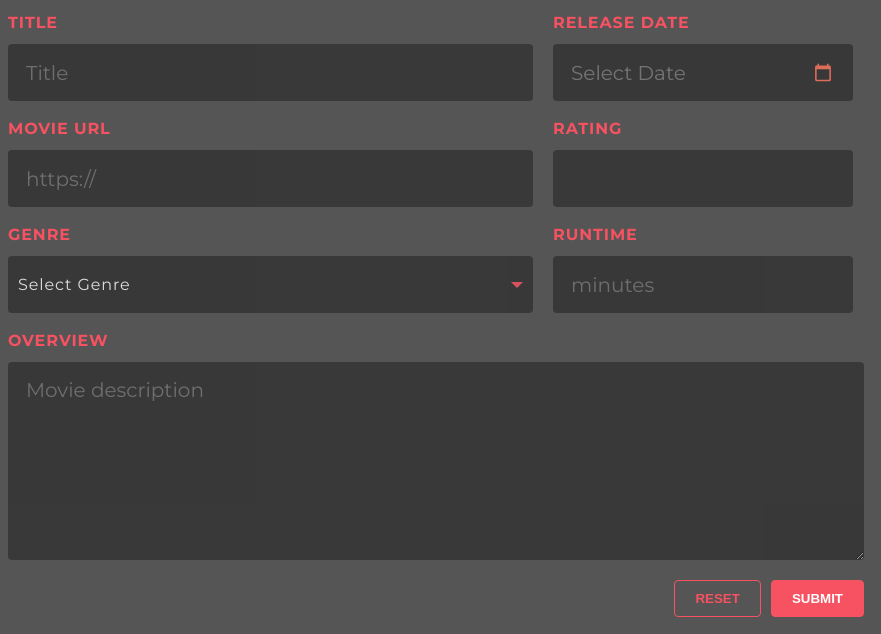
Test case: MovieForm › shows date placeholder when no date selected
The width and height of the screenshot is (881, 634).
Check: the text "Select Date" is shown, box [571,60,686,84]
# Change date
Type "2023-01-01" into the date field with test id "date-input".
click(703, 72); type("2023-01-01")  # box [553,44,853,101]
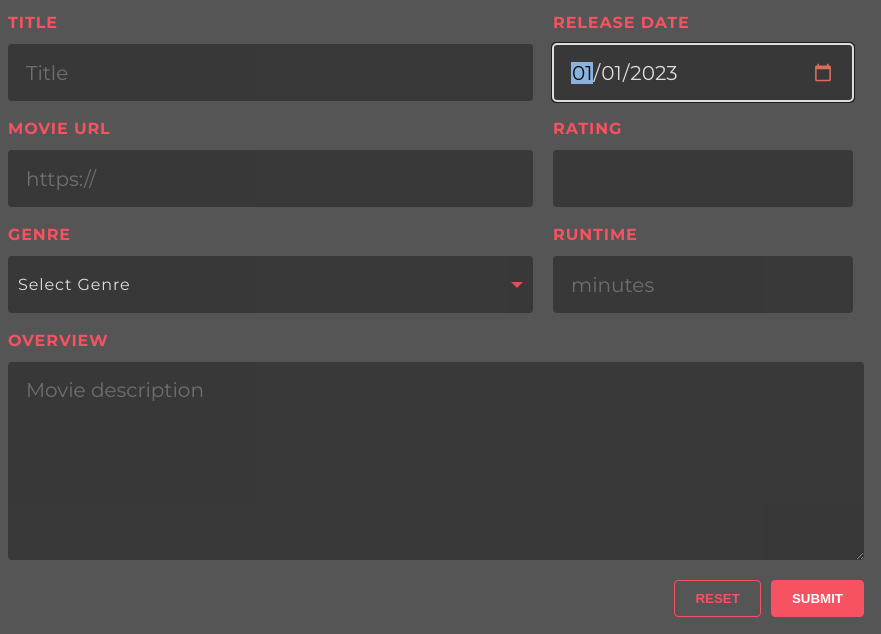
Check: the text "Select Date" is gone
